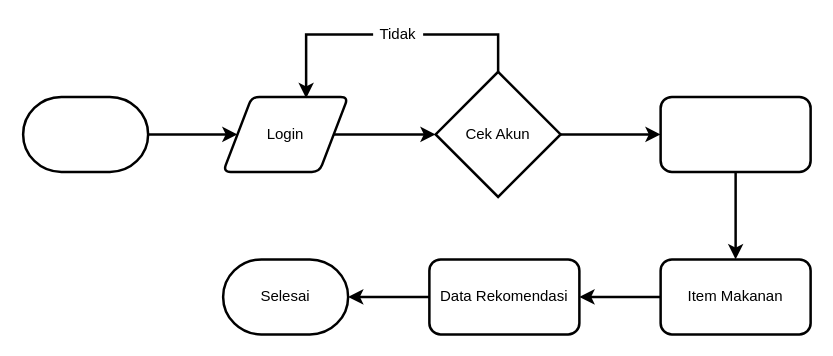
The diagram is 833 pixels wide and 356 high, and some of its shapes have lost their labels. Here are the shapes that lost their labels. From the top down, the box of each, then its label:
(21, 95, 149, 172): Mulai
(659, 95, 811, 172): Menu Makanan
